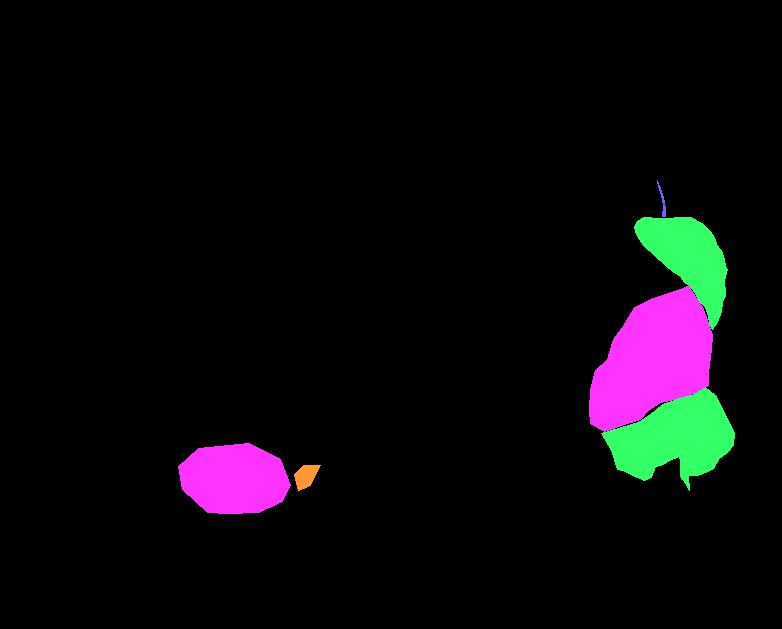Broken part: (601, 387, 734, 490), (634, 217, 727, 329)
Dent: (589, 285, 712, 431), (178, 443, 290, 513)
Paint chip: (294, 465, 320, 490)
Scratch: (657, 180, 665, 216)
